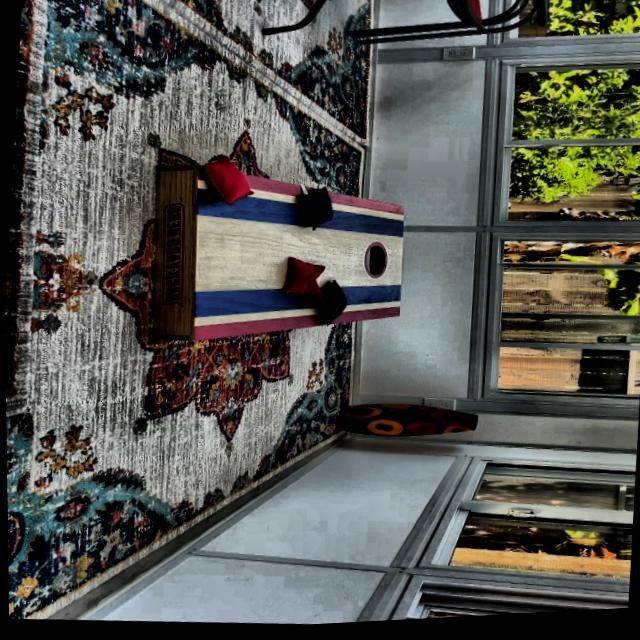blue-bean-bag: (297, 188, 334, 235), (317, 281, 349, 328)
board: (191, 185, 406, 335)
hole: (362, 243, 390, 283)
red-bean-bag: (201, 153, 257, 208), (281, 257, 324, 302)
